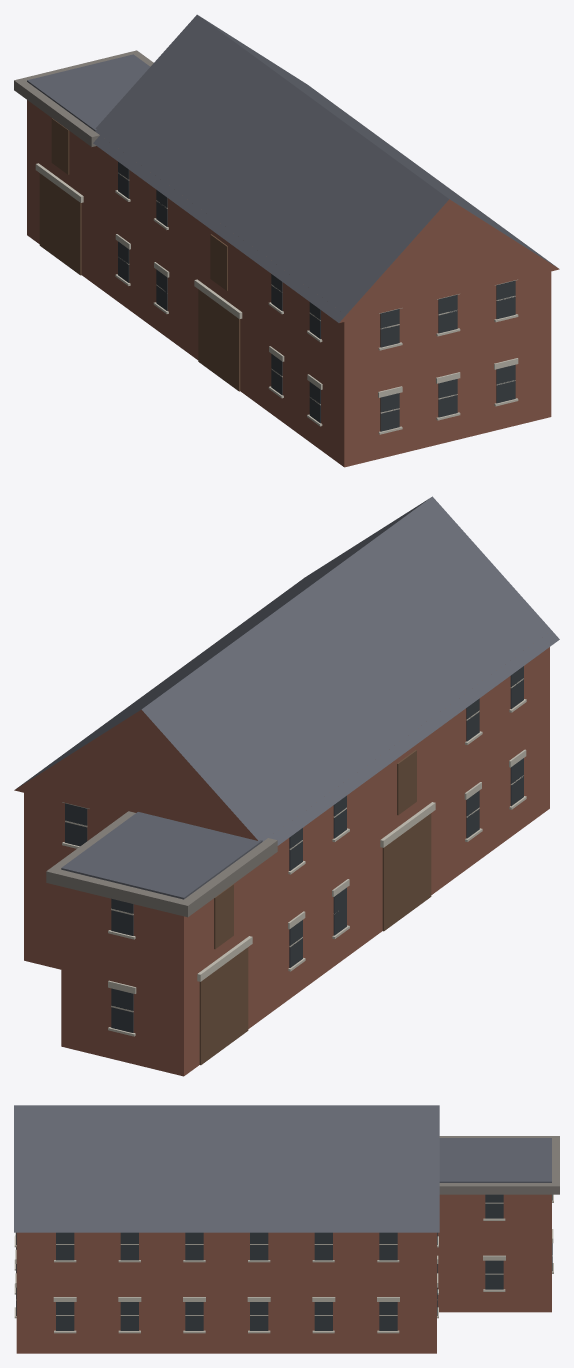
The model's file is house_2032_calumet_coach_house__draft_1904.glb.
3 views of the same model, one above another, from view 1: azimuth 30°, elevation 25°; view 2: azimuth 150°, elevation 25°; view 3: azimuth 270°, elevation 25° (orthographic). The views are drawn at different scales.
Parts seen in each view (by area): view 1: house_2032_calumet_coach_house__draft_1904; view 2: house_2032_calumet_coach_house__draft_1904; view 3: house_2032_calumet_coach_house__draft_1904.
Part boxes in pixels (bbox=[...]): house_2032_calumet_coach_house__draft_1904: bbox=[14, 14, 559, 467]; house_2032_calumet_coach_house__draft_1904: bbox=[14, 496, 559, 1076]; house_2032_calumet_coach_house__draft_1904: bbox=[14, 1105, 559, 1353].
Size of the model in its own units: 9.4 by 9.87 by 23.72.
